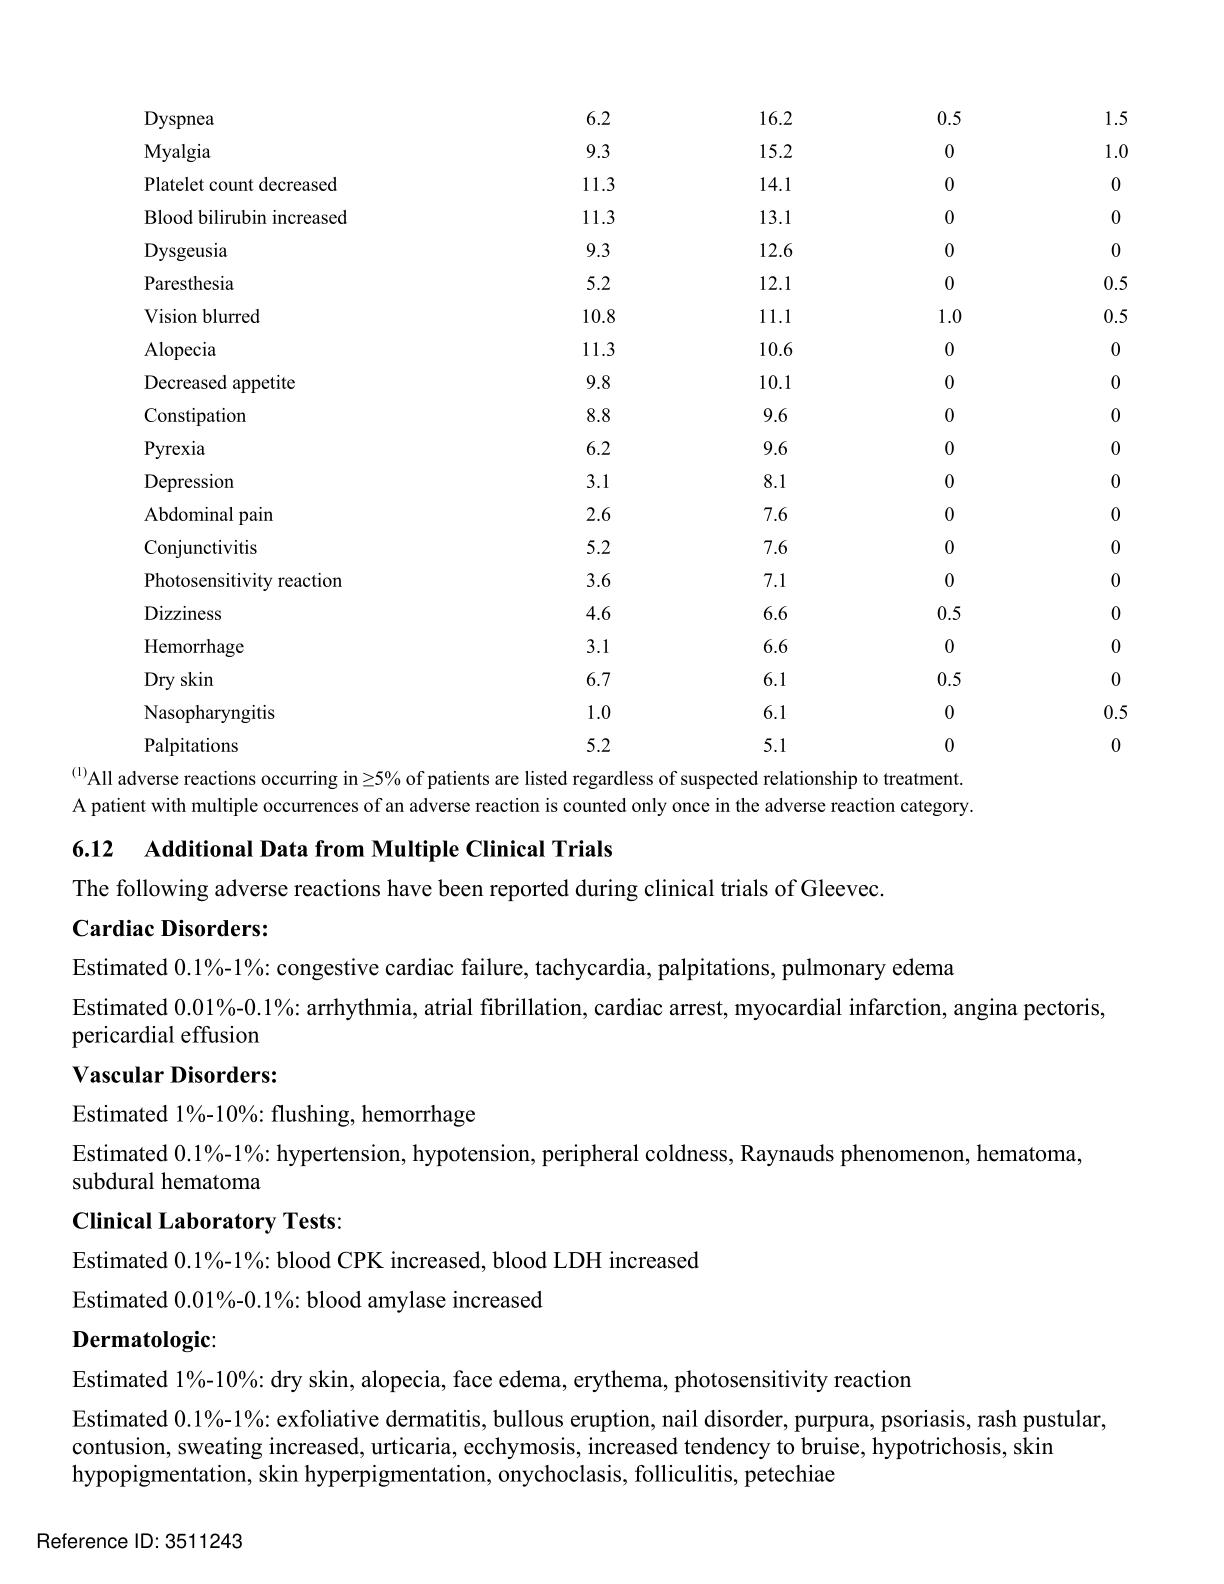nolines: (136, 105, 1137, 759)
